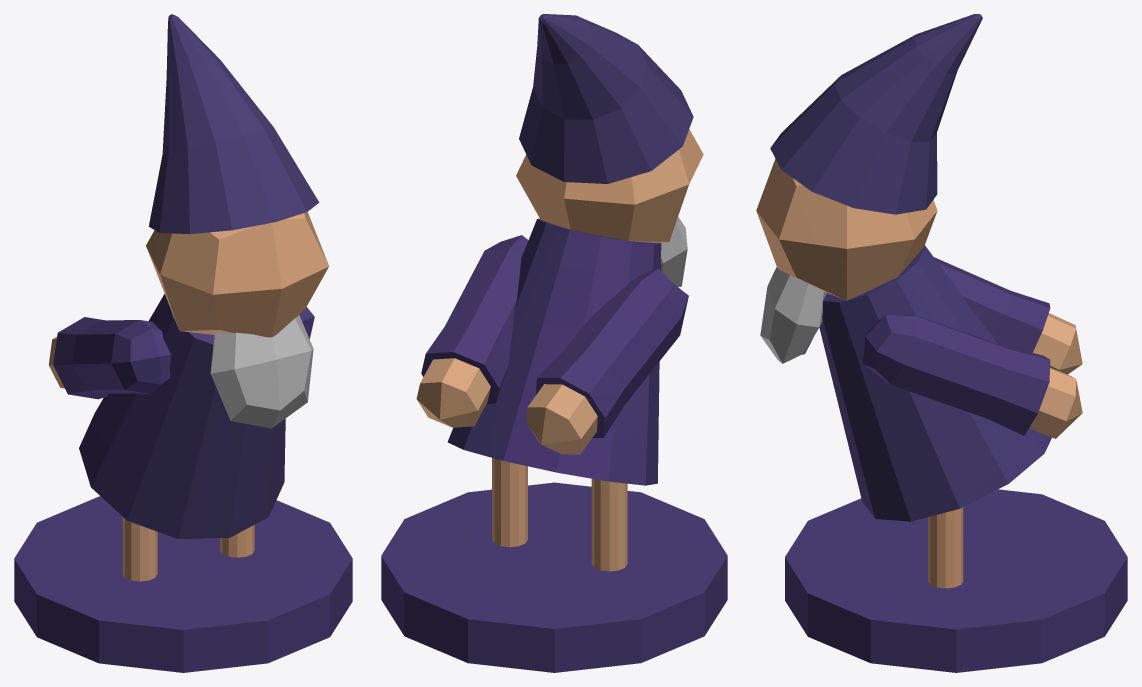
File: GnomeAzul.FBX
3 renders of one model, left to right at view 1: azimuth 30°, elevation 25°; view 2: azimuth 150°, elevation 25°; view 3: azimuth 270°, elevation 25°, orthographic. The views are drawn at different scales.
Parts seen in each view (by area): view 1: GnomeAzul; view 2: GnomeAzul; view 3: GnomeAzul.
Boxes of the visible parts, left/top/right/bottom form: GnomeAzul: left=14, top=14, right=352, bottom=672; GnomeAzul: left=381, top=14, right=727, bottom=672; GnomeAzul: left=756, top=14, right=1127, bottom=672.
Bounding box in the file's own units: 27.83 × 52.51 × 30.16.
